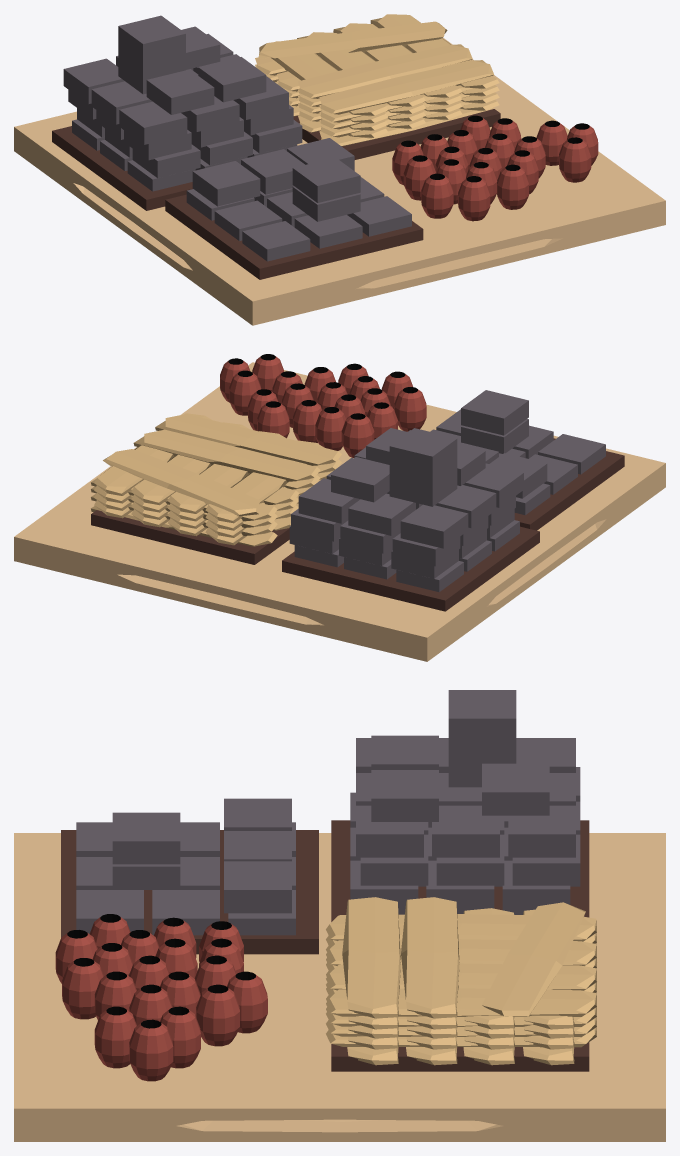
Rendered from Lager_clear 1.fbx.
The picture shows the model from 3 angles, top to bottom: view 1: azimuth 30°, elevation 25°; view 2: azimuth 150°, elevation 25°; view 3: azimuth 270°, elevation 25°; orthographic projection. The views are drawn at different scales.
Parts seen in each view (by area): view 1: Cube.006; view 2: Cube.006; view 3: Cube.006.
Boxes of the visible parts, bbox=[...] form: Cube.006: bbox=[14, 14, 665, 325]; Cube.006: bbox=[14, 354, 665, 661]; Cube.006: bbox=[14, 690, 665, 1141].
Size of the model in its own units: 602 by 213 by 602.
